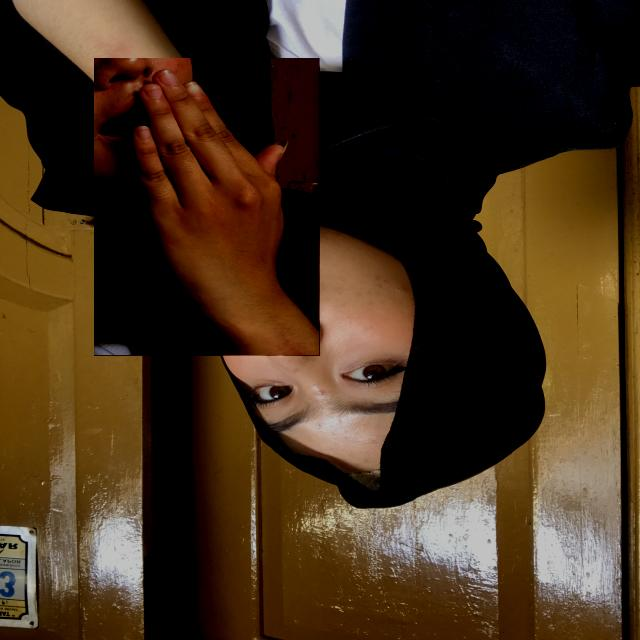ngantuk: (94, 58, 320, 356)
